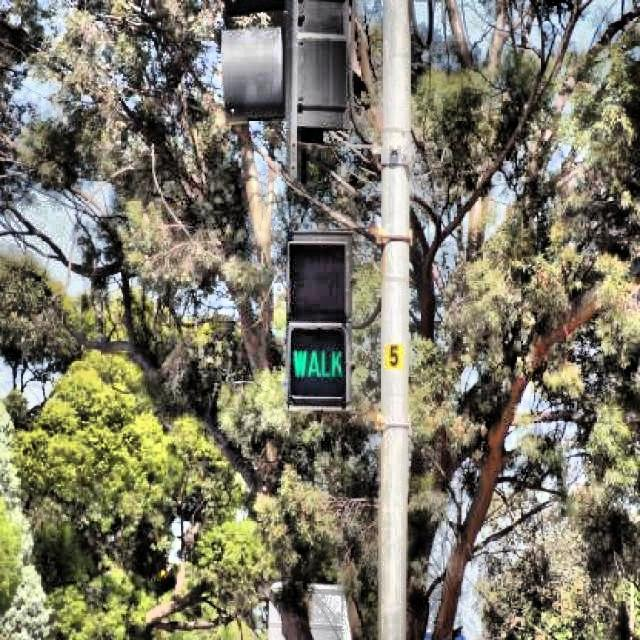semaforo pedestre: (266, 226, 356, 414)
